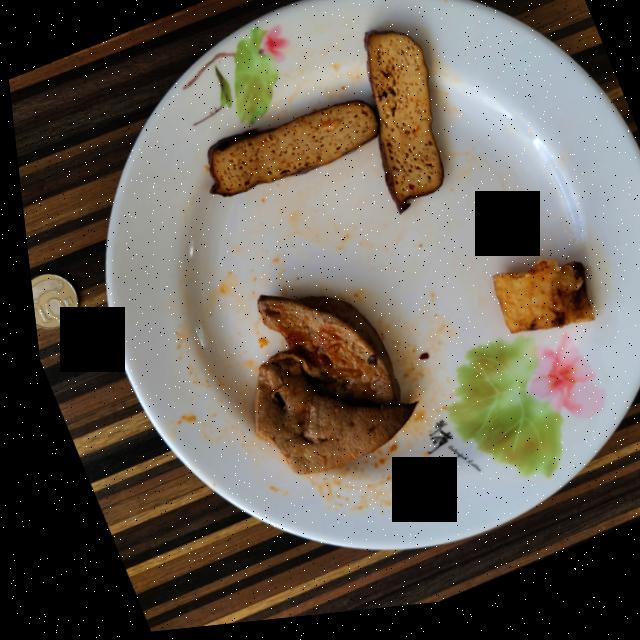coin: (24, 274, 70, 329)
firm tofu: (203, 39, 437, 220)
fried potato: (484, 270, 584, 343)
pig liver: (243, 300, 405, 480)
